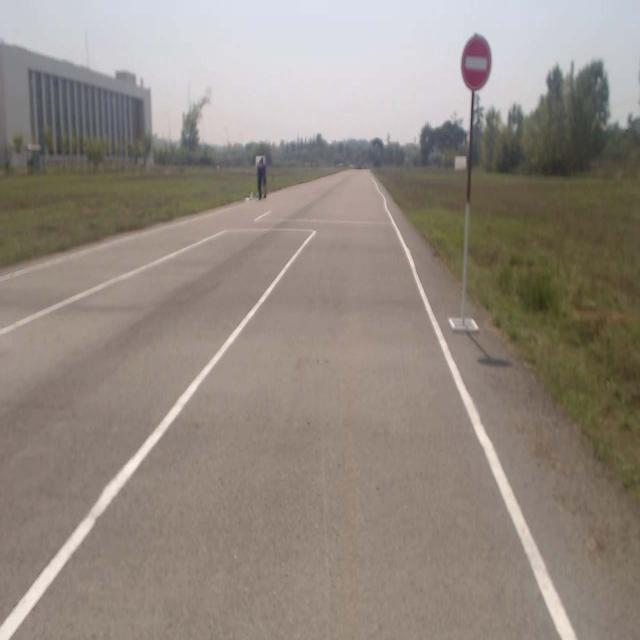girisyok: (462, 37, 490, 88)
